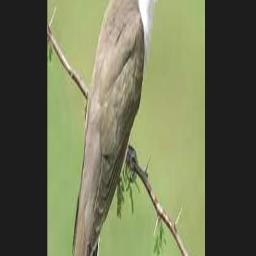Cuckoo: (70, 0, 175, 256)
